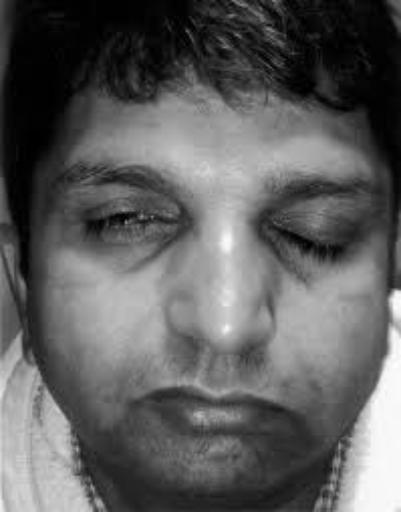left_eye: (266, 204, 365, 262)
left_lip_corner: (258, 390, 295, 422)
right_eye: (74, 206, 154, 243)
right_lip_corner: (138, 383, 173, 413)
